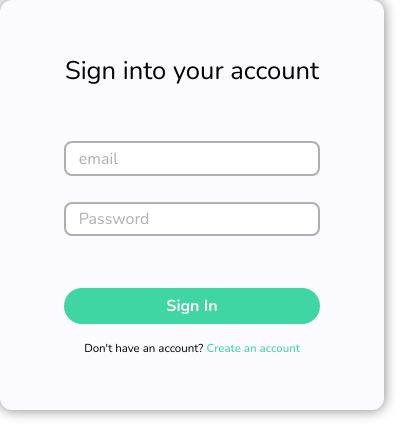
Scenario: Auth Component › allows toggling between sign-in and sign-up forms
Initially in sign-in mode
Step 1. Click the button "Create an account" → click(253, 349), box x1=206 y1=340 x2=300 y2=358
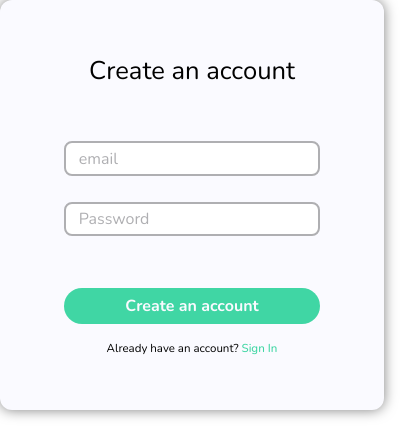
Result: the button "Create an account" is shown at x1=64 y1=294 x2=320 y2=318
Toggle back to sign-in mode
Step 2. Click the button "Sign In" → click(259, 349), box x1=242 y1=340 x2=277 y2=358
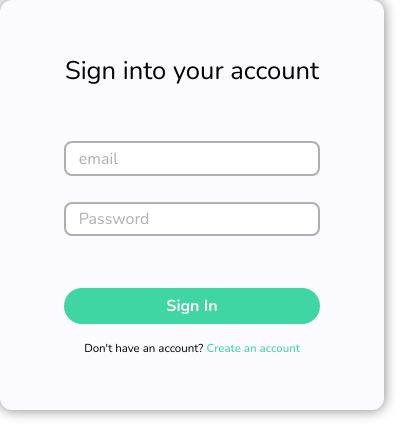
Result: the text "Sign into your account" is shown at x1=65 y1=52 x2=319 y2=90
